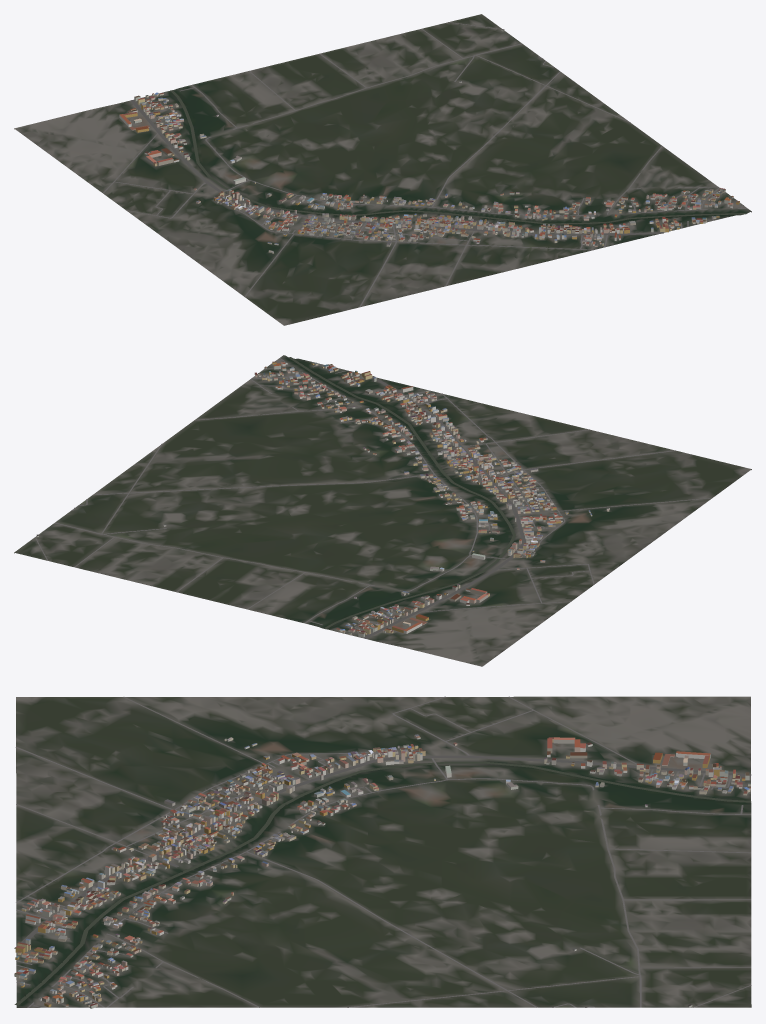
3 views of the same model, one above another, from view 1: azimuth 30°, elevation 25°; view 2: azimuth 150°, elevation 25°; view 3: azimuth 270°, elevation 25° (orthographic). The views are drawn at different scales.
Visible parts, largest first — view 1: ground, buildings, roads, water; view 2: ground, buildings, roads, water; view 3: ground, buildings, roads, water.
Boxes of the visible parts, bbox=[...] form: ground: bbox=[14, 14, 751, 325]; buildings: bbox=[119, 29, 739, 253]; roads: bbox=[103, 22, 747, 307]; water: bbox=[170, 90, 746, 224]; ground: bbox=[14, 355, 751, 666]; buildings: bbox=[36, 361, 609, 637]; roads: bbox=[35, 358, 712, 638]; water: bbox=[288, 357, 515, 628]; ground: bbox=[16, 696, 751, 1007]; buildings: bbox=[14, 734, 750, 1008]; roads: bbox=[14, 696, 751, 1007]; water: bbox=[14, 761, 751, 1005].
Size of the model in its own units: 1410 by 22.49 by 1408.
